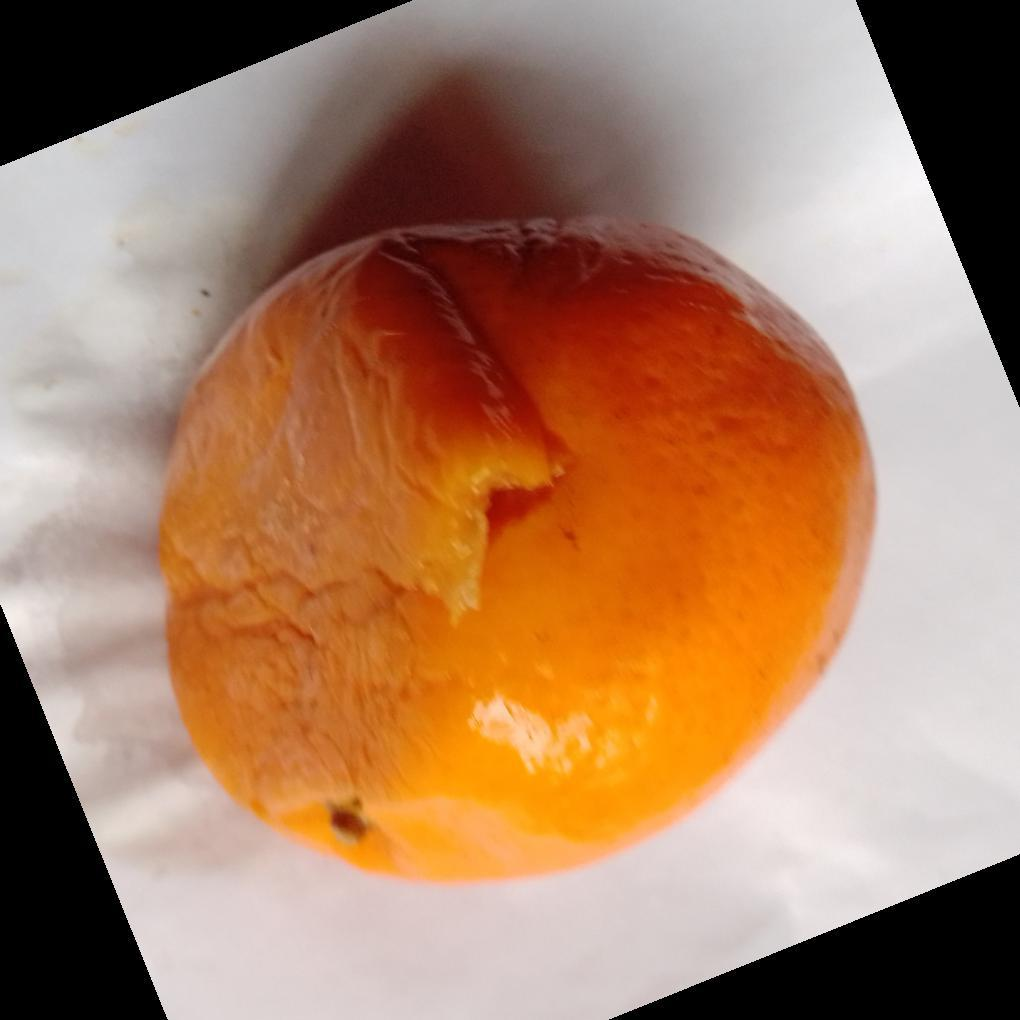FreshOrange: (156, 216, 879, 888)
